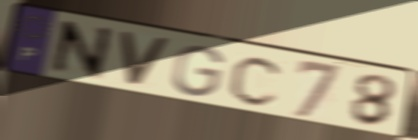7: (293, 57, 344, 121)
8: (349, 73, 398, 129)
C: (226, 54, 287, 108)
G: (169, 44, 226, 99)
N: (45, 18, 116, 84)
V: (116, 28, 173, 91)
